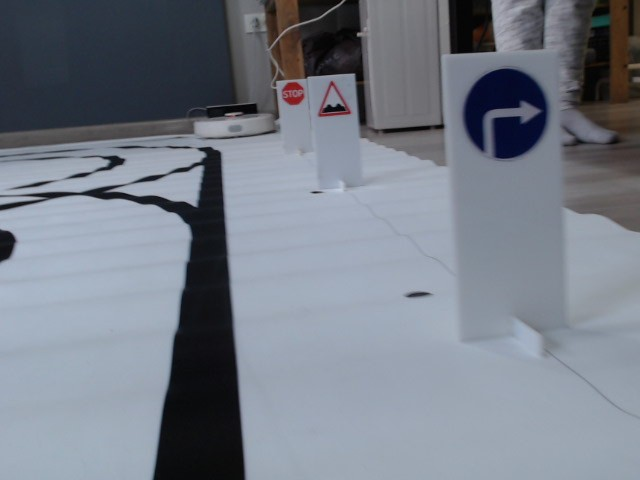Nerov: (317, 79, 352, 117)
Right: (460, 66, 550, 162)
Stop: (281, 81, 304, 105)
